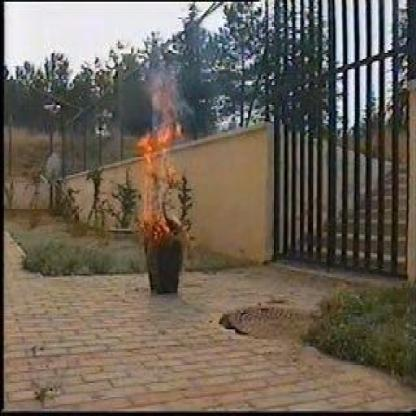-: (136, 39, 197, 84)
foggia-v2-map80-epoch100 - v1 4323: (142, 87, 174, 239)
